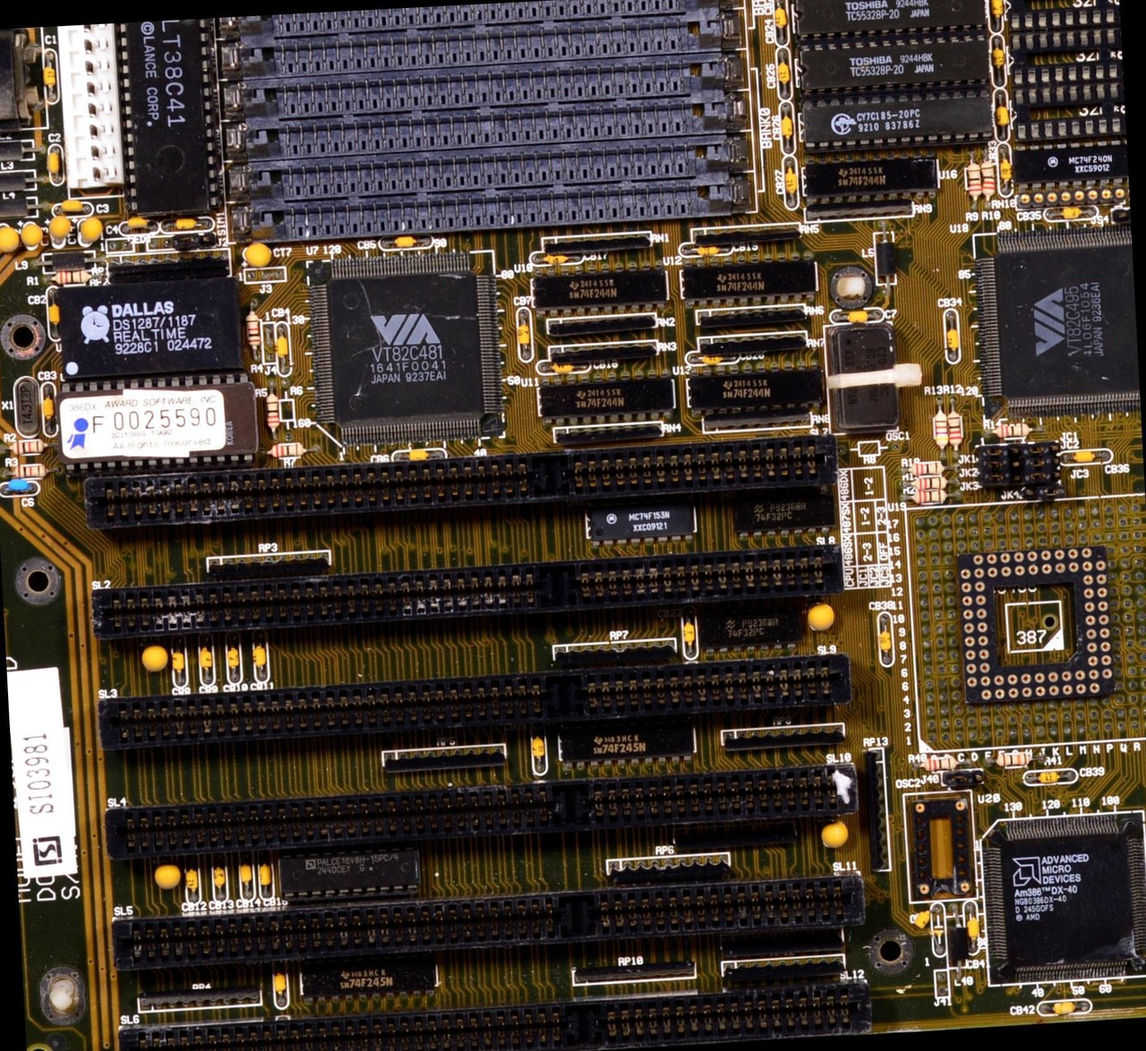Capacitor: (512, 307, 536, 358), (940, 316, 967, 361), (878, 611, 900, 664), (833, 305, 879, 330), (271, 323, 295, 370), (381, 233, 435, 253), (776, 104, 802, 145), (166, 210, 206, 236), (249, 640, 272, 685), (234, 860, 258, 903), (208, 861, 232, 903), (686, 239, 728, 262), (523, 734, 551, 767), (224, 643, 244, 689), (252, 859, 275, 899), (679, 612, 699, 657), (3, 475, 35, 503), (1037, 1000, 1084, 1019), (194, 642, 214, 684), (776, 163, 800, 197), (182, 866, 204, 903), (124, 213, 155, 239), (1029, 769, 1075, 786), (773, 0, 791, 43), (168, 642, 187, 680), (694, 348, 731, 367), (1067, 448, 1100, 469), (401, 445, 433, 466), (269, 968, 288, 1003), (960, 909, 978, 945), (46, 145, 62, 179), (61, 193, 93, 209), (989, 44, 1006, 74), (41, 394, 57, 425), (995, 101, 1010, 130), (44, 302, 62, 325), (988, 0, 1005, 23), (775, 60, 791, 84)
Connector: (218, 51, 750, 118), (106, 783, 569, 857), (225, 177, 751, 241), (223, 137, 755, 200), (109, 895, 583, 964), (220, 96, 746, 158), (213, 16, 745, 77), (88, 456, 554, 522), (101, 678, 565, 744), (100, 564, 551, 631), (119, 1002, 583, 1050), (216, 0, 745, 36), (582, 876, 867, 942), (575, 766, 854, 831), (566, 660, 853, 720), (554, 439, 833, 498), (585, 988, 865, 1044), (558, 550, 838, 605), (59, 23, 122, 192), (0, 27, 45, 134), (1009, 5, 1120, 32), (1010, 28, 1121, 55), (1013, 61, 1123, 88), (1014, 85, 1124, 108), (1016, 119, 1126, 142), (249, 640, 270, 681)
IC: (308, 250, 506, 443), (970, 225, 1140, 418), (980, 810, 1145, 987), (62, 373, 261, 474), (121, 19, 219, 215), (56, 284, 248, 381), (792, 36, 986, 97), (803, 102, 995, 147), (559, 717, 700, 775), (792, 0, 993, 40), (685, 365, 825, 422), (538, 372, 681, 427), (528, 265, 673, 317), (679, 260, 820, 312), (278, 847, 412, 900), (804, 154, 941, 205), (300, 955, 440, 1002), (695, 605, 809, 658), (1008, 143, 1128, 192), (731, 491, 839, 538), (587, 497, 698, 542)
Resistor: (962, 158, 987, 211), (910, 485, 957, 513), (242, 307, 267, 359), (915, 749, 963, 775), (903, 453, 946, 480), (48, 266, 94, 291), (263, 388, 285, 440), (38, 55, 63, 100), (982, 157, 1001, 209), (266, 437, 305, 462), (11, 436, 52, 459), (12, 457, 49, 482), (907, 474, 952, 493), (992, 748, 1034, 768), (932, 409, 950, 453), (948, 409, 966, 451), (996, 422, 1033, 442)
